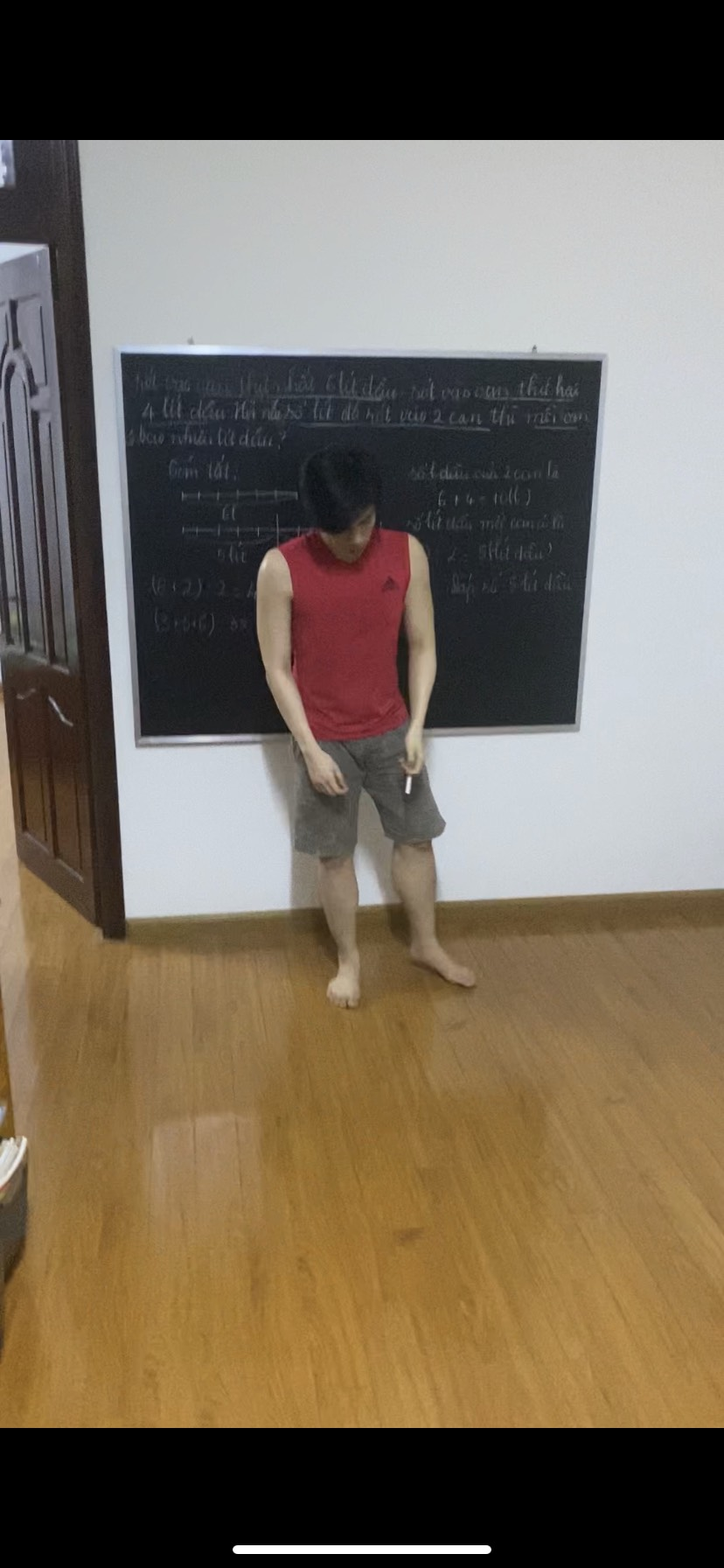cigarette: (399, 774, 416, 799)
person: (255, 445, 477, 1012)
